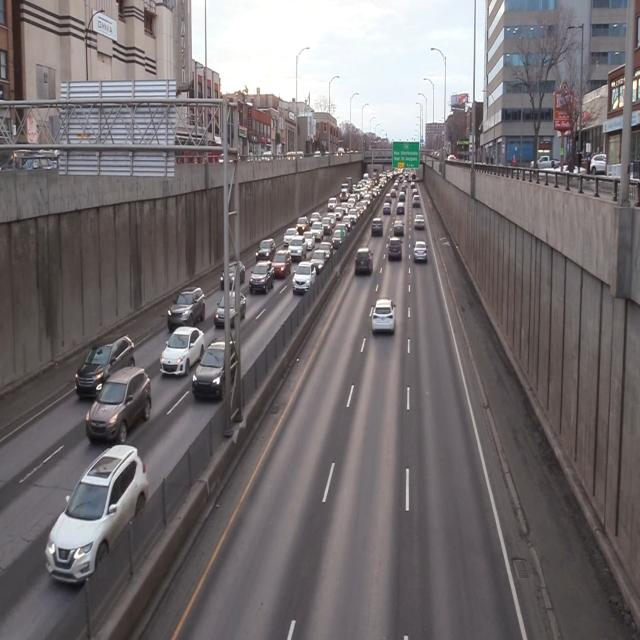Car: (46, 442, 145, 588), (88, 366, 152, 452), (74, 332, 134, 405), (192, 341, 239, 405), (160, 326, 204, 381), (167, 285, 202, 338), (215, 289, 243, 331), (250, 262, 274, 296), (372, 303, 395, 335), (293, 263, 315, 295), (353, 248, 373, 276), (272, 251, 290, 280), (256, 239, 274, 264), (288, 236, 306, 260), (387, 238, 402, 260), (413, 242, 428, 262), (284, 227, 296, 245), (372, 218, 384, 235), (394, 220, 404, 236), (414, 214, 424, 229)
